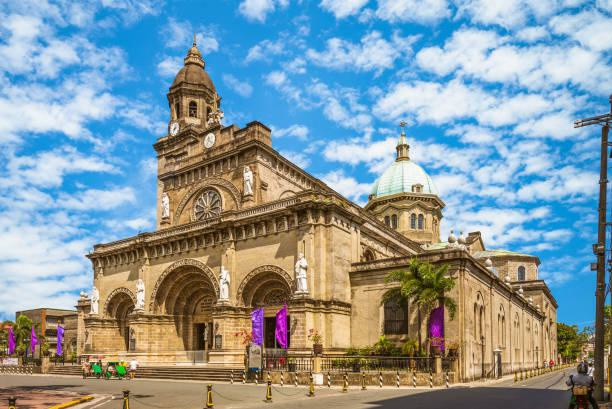manila_cathedral_church_intramuros_manila: (74, 24, 422, 378)
